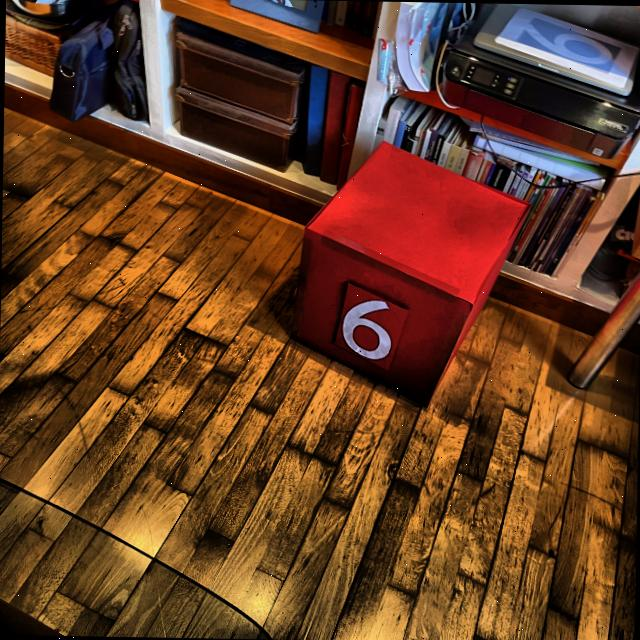red box: (291, 138, 535, 411)
six: (340, 296, 394, 361)
